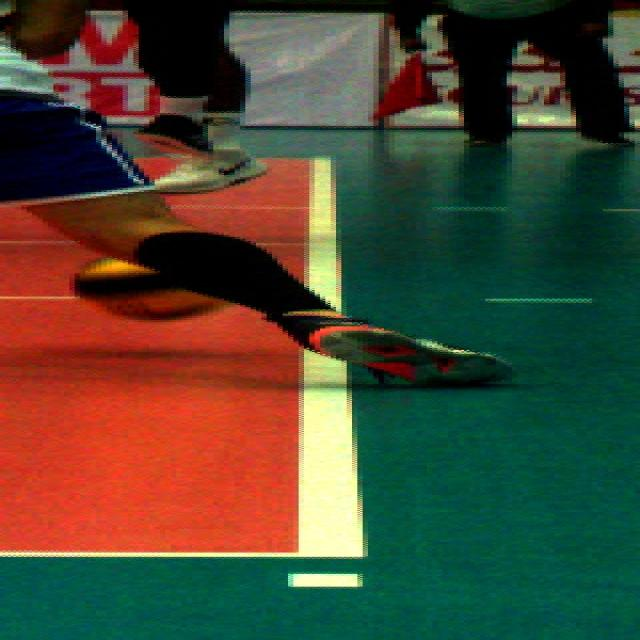Volleyball: (80, 256, 230, 321)
